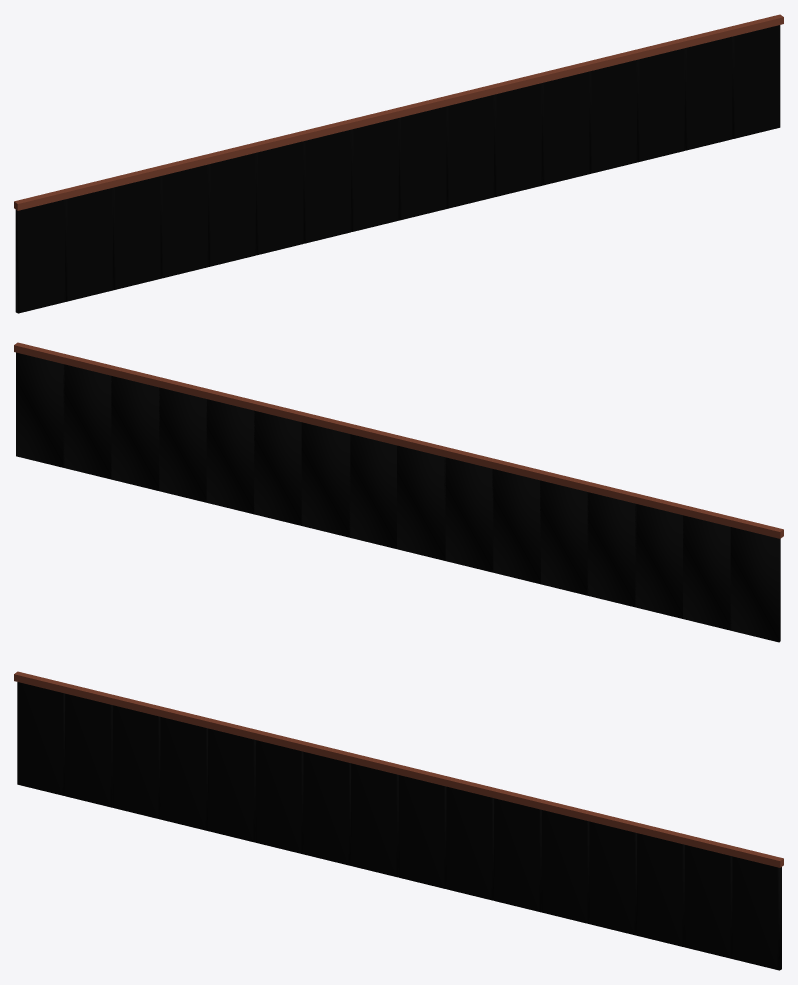
Rendered from Wall_Padding.fbx.
3 renders of one model, top to bottom at view 1: azimuth 30°, elevation 25°; view 2: azimuth 150°, elevation 25°; view 3: azimuth 330°, elevation 25°, orthographic.
Visible parts, largest first — view 1: Wall Padding; view 2: Wall Padding; view 3: Wall Padding.
Part boxes in pixels (bbox=[...]): Wall Padding: bbox=[14, 14, 783, 313]; Wall Padding: bbox=[14, 342, 783, 642]; Wall Padding: bbox=[14, 671, 783, 970].
Bounding box in the file's own units: 2803 × 388 × 23.87.
